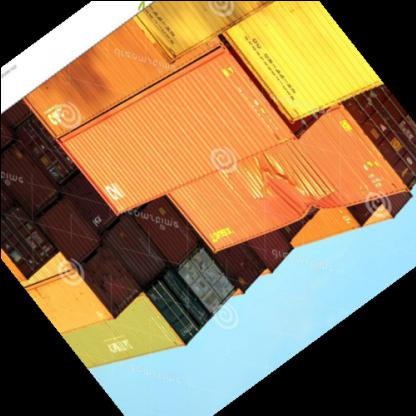Damage: (258, 174, 316, 216)
